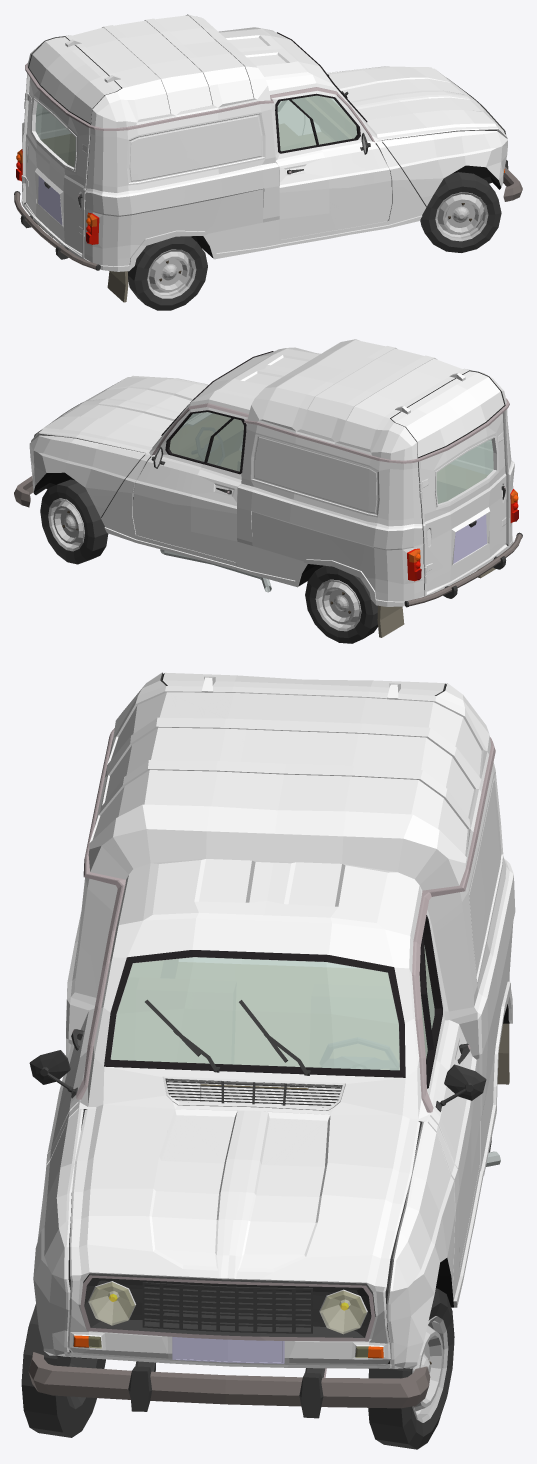
File: Renault 4L.fbx
3 renders of one model, top to bottom at view 1: azimuth 30°, elevation 25°; view 2: azimuth 150°, elevation 25°; view 3: azimuth 270°, elevation 25°, orthographic. The views are drawn at different scales.
Parts seen in each view (by area): view 1: 4L_Cube, wheels.003_Cylinder.004, wheels.002_Cylinder.003; view 2: 4L_Cube, wheels.001_Cylinder.002, wheels_Cylinder, ROTATINO_Cube.001; view 3: 4L_Cube, wheels_Cylinder, wheels.003_Cylinder.004, ROTATINO_Cube.001.
Part boxes in pixels (x1=…): 4L_Cube: x1=14, y1=14, x2=522, y2=302; wheels.003_Cylinder.004: x1=420, y1=172, x2=501, y2=252; wheels.002_Cylinder.003: x1=127, y1=236, x2=207, y2=310; 4L_Cube: x1=14, y1=339, x2=522, y2=637; wheels.001_Cylinder.002: x1=305, y1=565, x2=377, y2=643; wheels_Cylinder: x1=40, y1=479, x2=108, y2=564; ROTATINO_Cube.001: x1=160, y1=418, x2=505, y2=592; 4L_Cube: x1=28, y1=672, x2=515, y2=1418; wheels_Cylinder: x1=368, y1=1288, x2=454, y2=1449; wheels.003_Cylinder.004: x1=21, y1=1304, x2=105, y2=1437; ROTATINO_Cube.001: x1=71, y1=999, x2=500, y2=1166.
Size of the model in its own units: 411 by 202 by 202.
